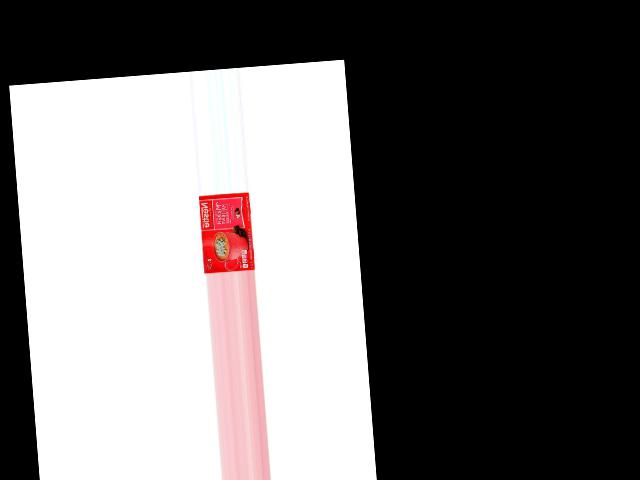chocolate: (200, 193, 258, 274)
